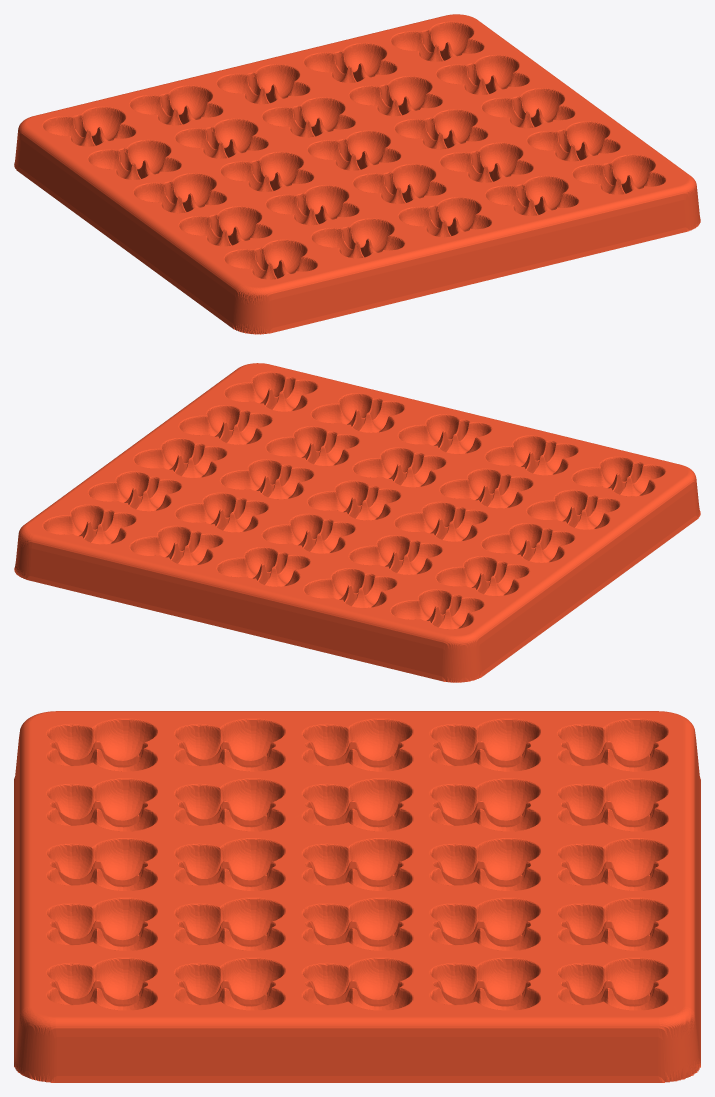
The model's file is mold.glb.
3 renders of one model, top to bottom at view 1: azimuth 30°, elevation 25°; view 2: azimuth 150°, elevation 25°; view 3: azimuth 270°, elevation 25°, orthographic. The views are drawn at different scales.
Parts seen in each view (by area): view 1: geometry_0; view 2: geometry_0; view 3: geometry_0.
Part boxes in pixels (<box>): geometry_0: <box>14,14,700,334</box>; geometry_0: <box>14,363,700,682</box>; geometry_0: <box>14,711,700,1082</box>.
Bounding box in the file's own units: 0.1584 × 0.0136 × 0.1441.
